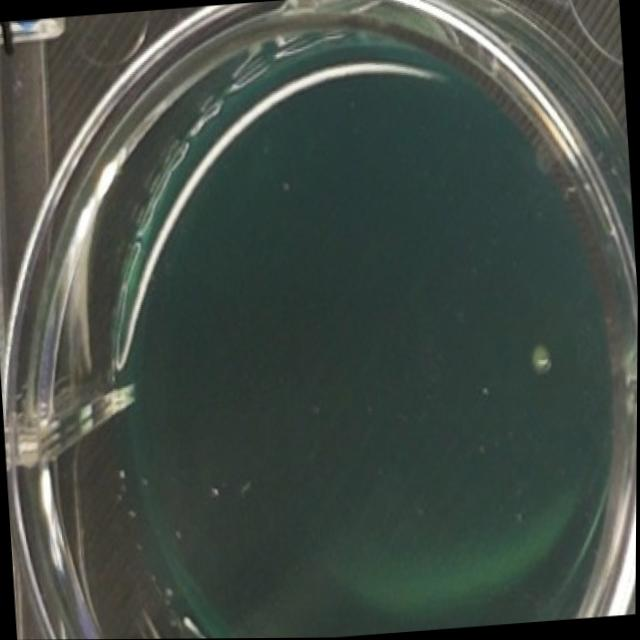vibrio: (522, 334, 562, 386)
